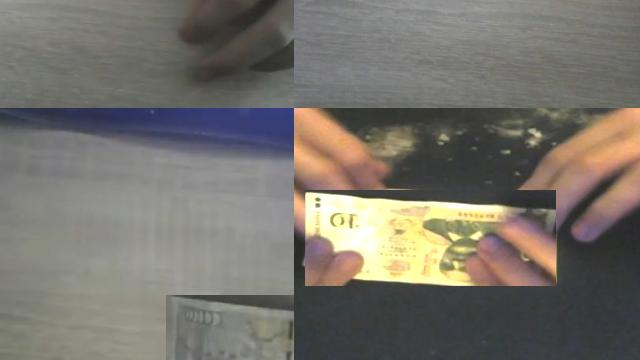10leva: (305, 190, 556, 286), (168, 295, 294, 360)
